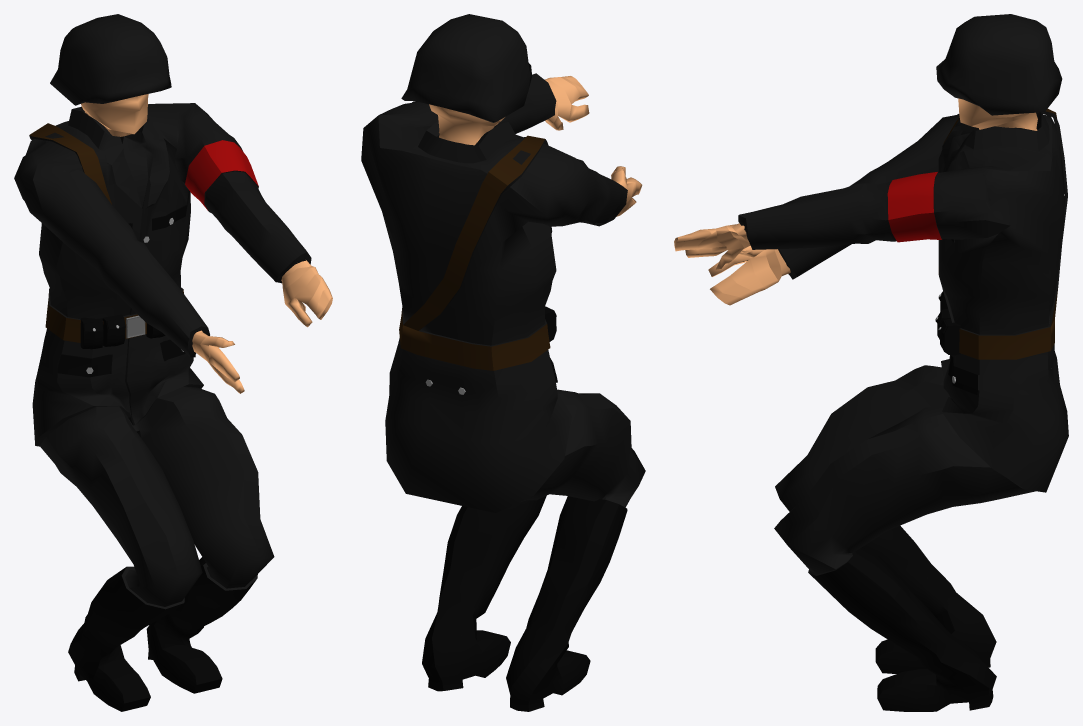
Rendered from german_infantry_aim_crouch_02.glb.
3 renders of one model, left to right at view 1: azimuth 30°, elevation 25°; view 2: azimuth 150°, elevation 25°; view 3: azimuth 270°, elevation 25°, orthographic. The views are drawn at different scales.
Visible parts, largest first — view 1: Soldier_1_Static, Helmet_Static; view 2: Soldier_1_Static, Helmet_Static; view 3: Soldier_1_Static, Helmet_Static.
Boxes of the visible parts, x1=… form: Soldier_1_Static: x1=14, y1=94, x2=332, y2=711; Helmet_Static: x1=50, y1=14, x2=171, y2=105; Soldier_1_Static: x1=361, y1=73, x2=645, y2=711; Helmet_Static: x1=401, y1=14, x2=532, y2=122; Soldier_1_Static: x1=674, y1=98, x2=1068, y2=711; Helmet_Static: x1=936, y1=14, x2=1062, y2=115.
Size of the model in its own units: 0.4721 by 1.42 by 0.7668.
Materials: 1 (1 with a texture image).
